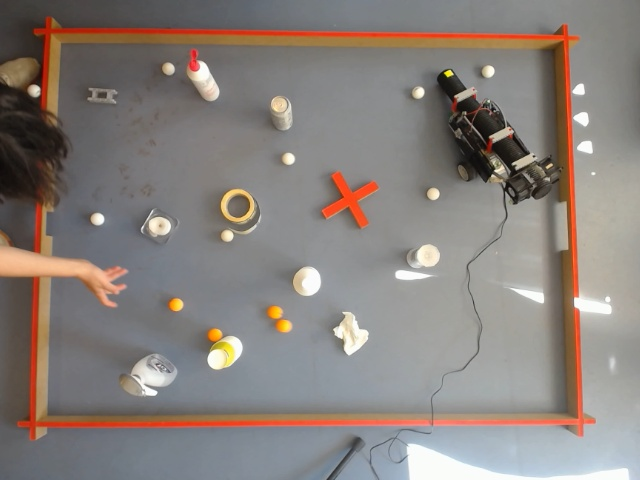orange: (167, 296, 185, 314), (275, 318, 294, 334), (206, 327, 223, 343), (265, 305, 283, 320), (271, 319, 290, 333)
robot: (436, 68, 564, 211)
white: (183, 31, 489, 71), (0, 0, 168, 71), (139, 212, 175, 245), (268, 94, 294, 131), (292, 266, 322, 298), (206, 342, 238, 371), (411, 244, 441, 269), (206, 345, 230, 371), (593, 469, 632, 480), (602, 467, 631, 480), (88, 211, 107, 229), (159, 61, 177, 78), (279, 151, 297, 168), (425, 187, 441, 202), (219, 229, 235, 244)
